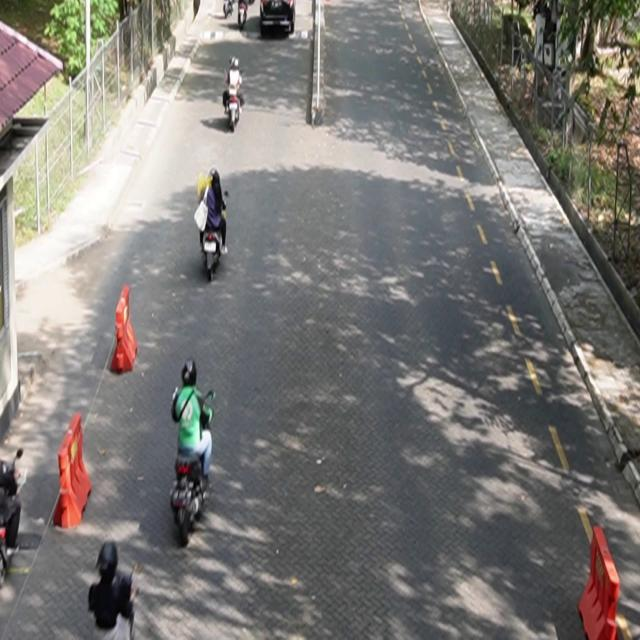car: (261, 1, 296, 36)
